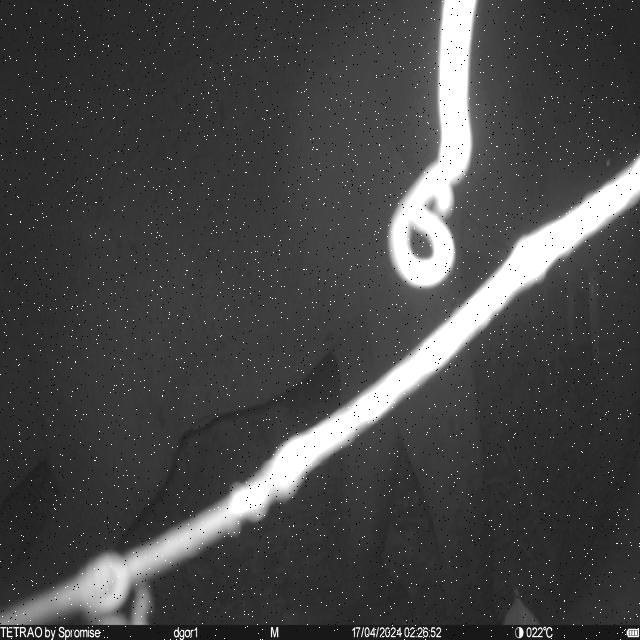ear: (396, 28, 543, 256)
elephant: (0, 0, 640, 616)
tusk: (587, 270, 604, 368), (563, 278, 578, 350)
